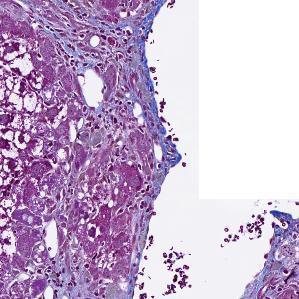fibrosis: (106, 44, 154, 145)
